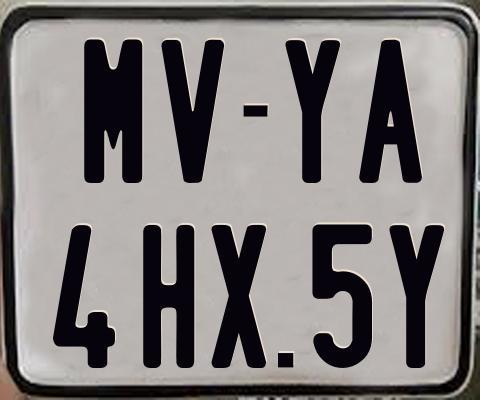4: (50, 225, 115, 371)
5: (311, 221, 377, 366)
A: (357, 38, 420, 186)
H: (140, 223, 192, 372)
M: (82, 37, 142, 183)
V: (158, 40, 227, 185)
X: (208, 225, 266, 372)
Y: (283, 39, 342, 182), (388, 223, 444, 369)
